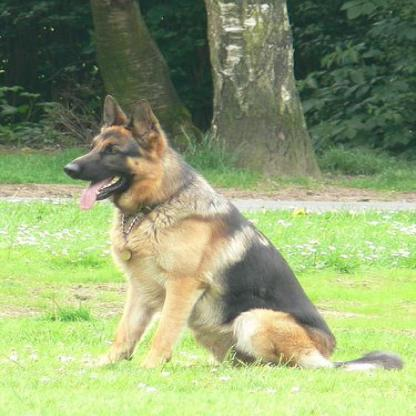German_shepherd: (60, 92, 405, 370)
